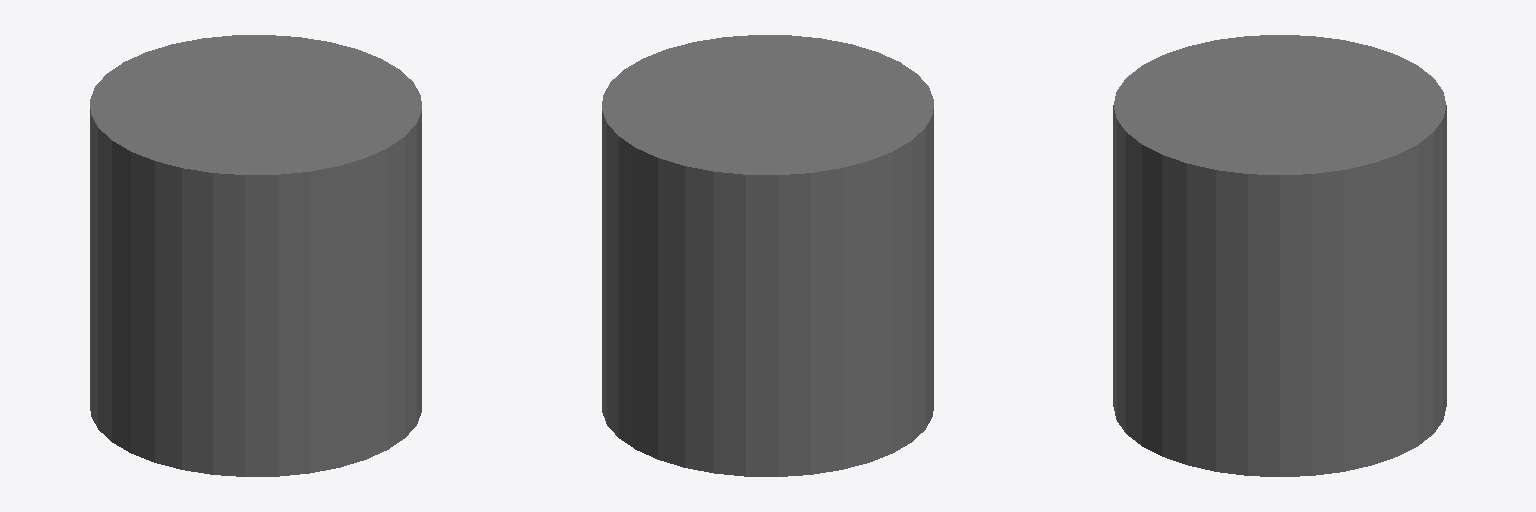
The model's file is crappy_cylinder.obj.
The picture shows the model from 3 angles: view 1: azimuth 30°, elevation 25°; view 2: azimuth 150°, elevation 25°; view 3: azimuth 270°, elevation 25°; orthographic projection.
Visible parts, largest first — view 1: Cube_Cube_Material_Cube_Cube_Material_Material.001; view 2: Cube_Cube_Material_Cube_Cube_Material_Material.001; view 3: Cube_Cube_Material_Cube_Cube_Material_Material.001.
Boxes of the visible parts, <box> form: Cube_Cube_Material_Cube_Cube_Material_Material.001: <box>90,35,421,476</box>; Cube_Cube_Material_Cube_Cube_Material_Material.001: <box>602,35,933,476</box>; Cube_Cube_Material_Cube_Cube_Material_Material.001: <box>1113,35,1446,476</box>.
Size of the model in its own units: 2 by 2 by 2.